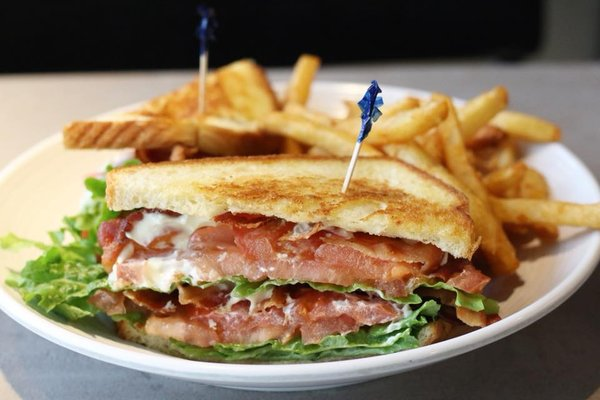soup: (86, 151, 496, 362)
